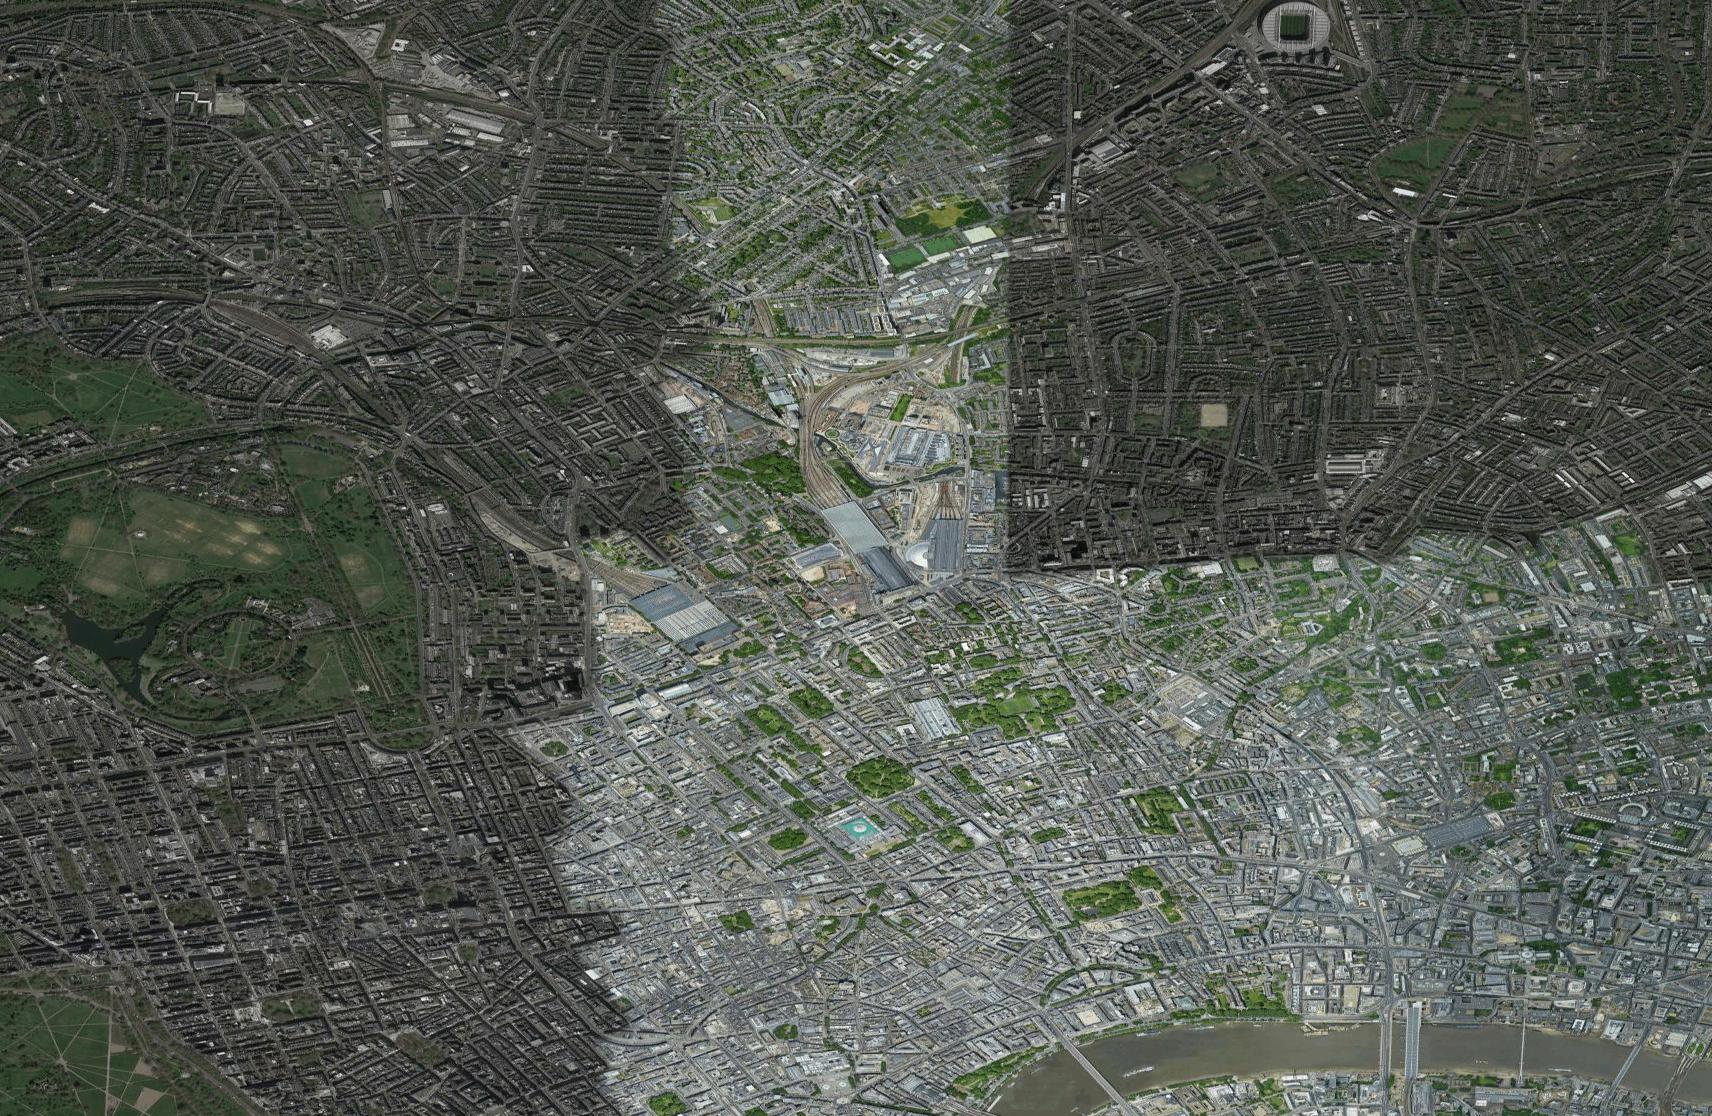bridge: (1057, 1039, 1128, 1107), (1607, 1040, 1648, 1094), (1403, 1014, 1424, 1085), (1376, 1014, 1396, 1076)
train_station: (596, 565, 751, 654), (809, 472, 898, 567)
